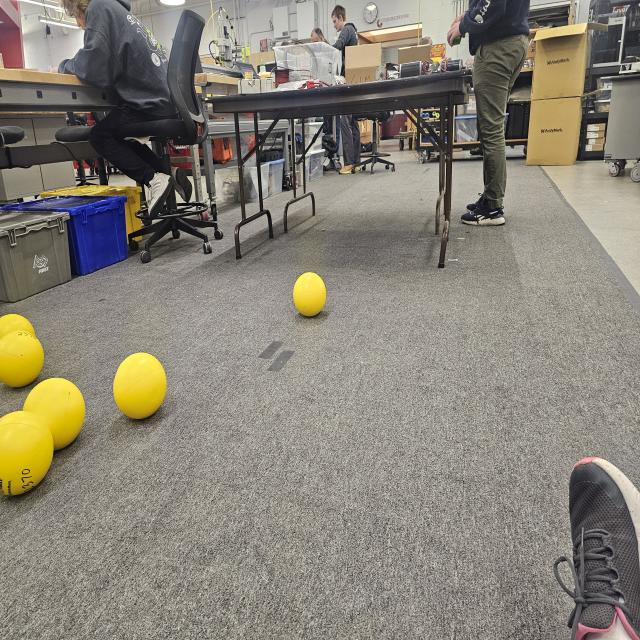Fuel: (24, 377, 86, 452), (0, 411, 53, 497), (114, 351, 167, 420), (0, 332, 44, 387), (0, 313, 35, 359), (294, 272, 326, 316)
